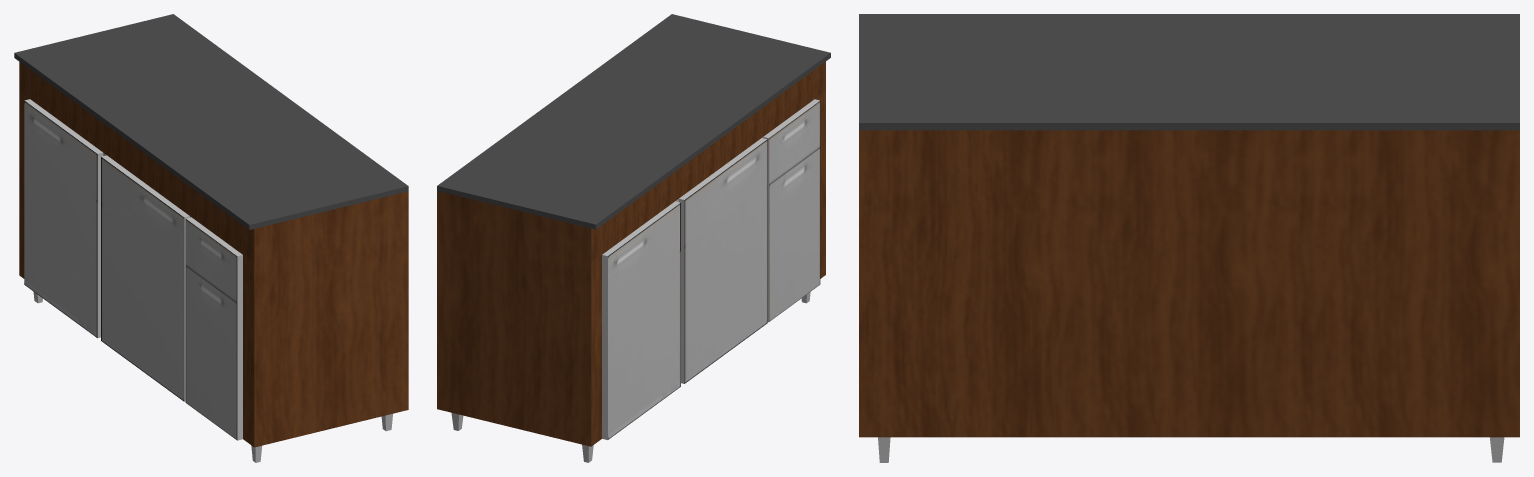
The model's file is balcaoCozinha.glb.
3 views of the same model, side by side, from view 1: azimuth 30°, elevation 25°; view 2: azimuth 150°, elevation 25°; view 3: azimuth 270°, elevation 25° (orthographic). The views are drawn at different scales.
Parts seen in each view (by area): view 1: balcao-col; view 2: balcao-col; view 3: balcao-col.
Boxes of the visible parts, x1,y1,x2,y2 form: balcao-col: (14,14,408,462); balcao-col: (437,14,830,462); balcao-col: (859,14,1519,462).
Bounding box in the file's own units: 1.5 × 2.21 × 3.81.
Materials: 1 (1 with a texture image).
